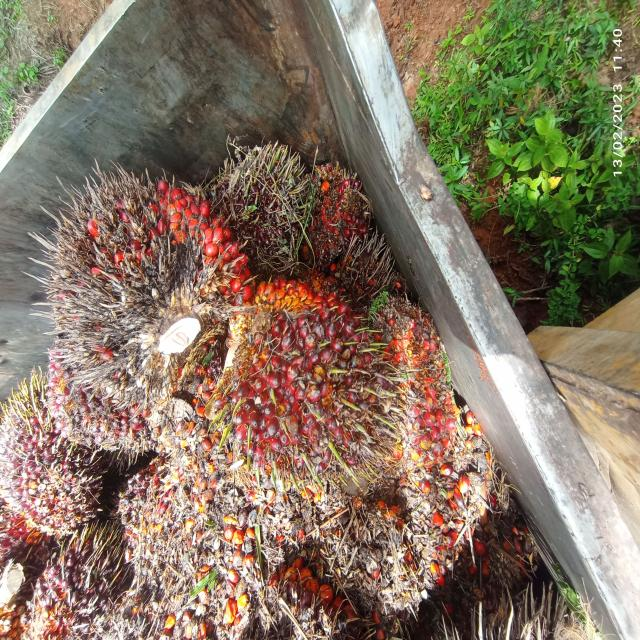fraksi 1: (0, 390, 101, 541)
fraksi 3: (195, 274, 384, 496), (386, 310, 497, 568)
fraksi 4: (41, 162, 269, 409), (282, 153, 396, 273)
